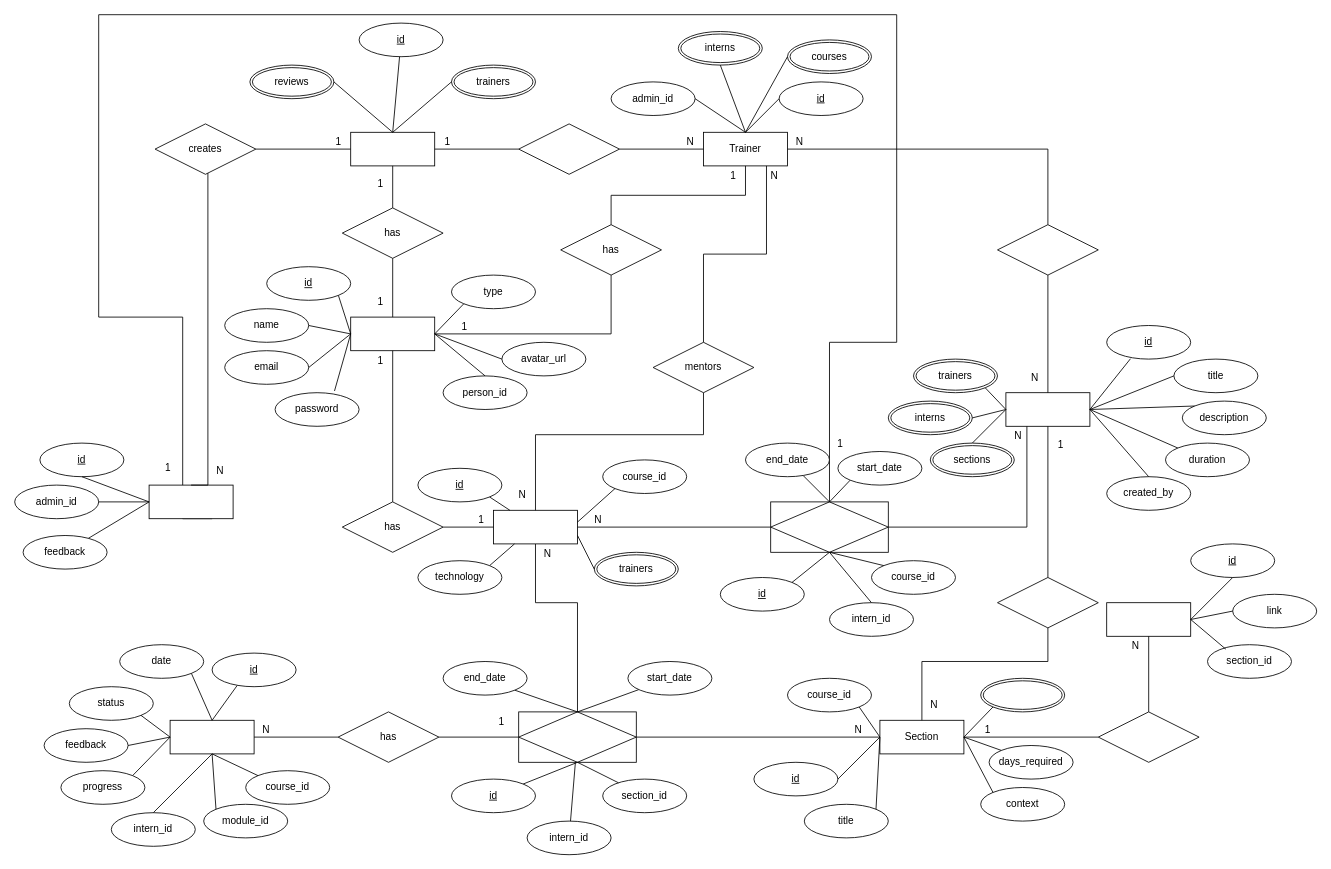
Some shapes in this 1331 by 869 pixel diagram are drawn without their labels. The shapes that lost their labels are listed below. From the top down, each one's centre as x and y in pixels, then its label:
At point 392,148: "Admin".
At point 569,148: "Supervise".
At point 1047,249: "teaches".
At point 392,333: "Account".
At point 1047,409: "Course".
At point 190,501: "Review".
At point 535,526: "Intern".
At point 829,526: "CourseReport".
At point 1047,602: "contains".
At point 1148,619: "Reference".
At point 1022,694: "refernces".
At point 211,736: "DailyReport".
At point 577,736: "SectionReport".
At point 1148,736: "holds".
